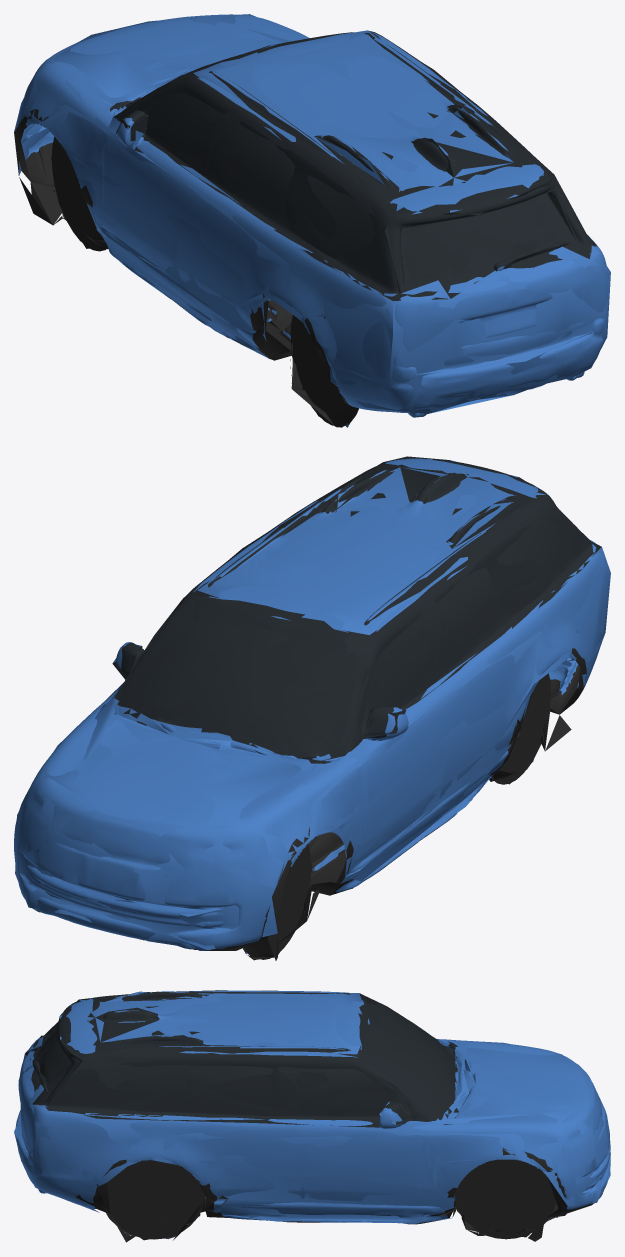
File: land-rover-range-rover.glb
3 views of the same model, one above another, from view 1: azimuth 30°, elevation 25°; view 2: azimuth 150°, elevation 25°; view 3: azimuth 270°, elevation 25° (orthographic). The views are drawn at different scales.
Parts seen in each view (by area): view 1: body, far; view 2: body, far; view 3: body, far.
Part boxes in pixels (x1,y1,x2,y2): body: (17,14,608,427); far: (14,14,610,427); body: (14,458,608,960); far: (15,456,610,960); body: (15,990,610,1242); far: (14,990,610,1242).
Bounding box in the file's own units: 2.07 × 1.87 × 5.09.
